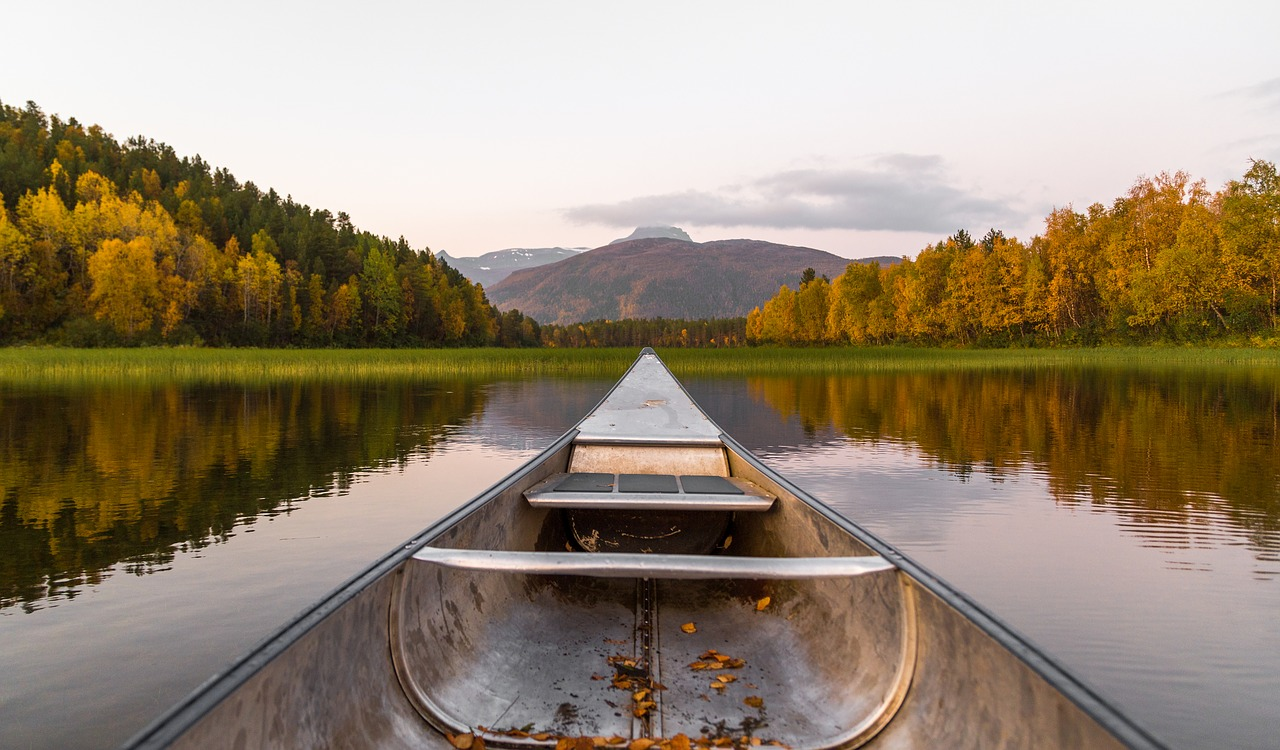kayak: (118, 345, 1180, 750)
